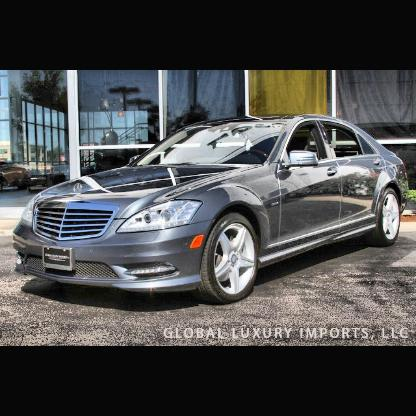Mercedes-Benz S-Class Sedan 2012: (12, 113, 411, 306)
